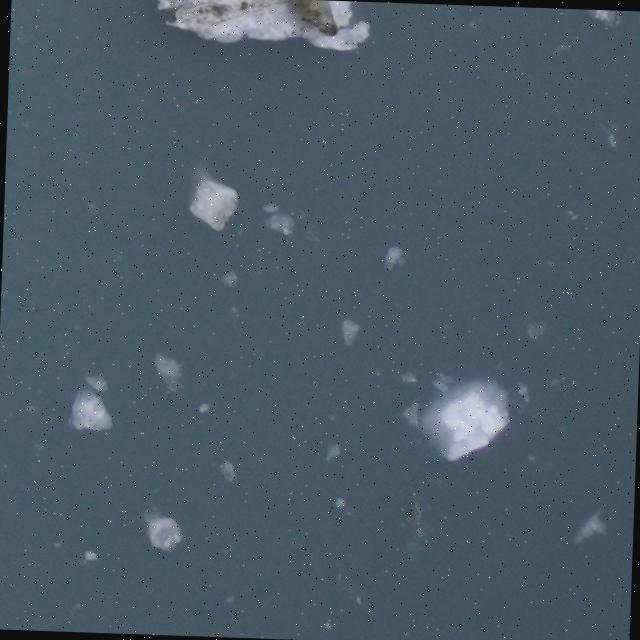seal: (274, 0, 339, 38)
